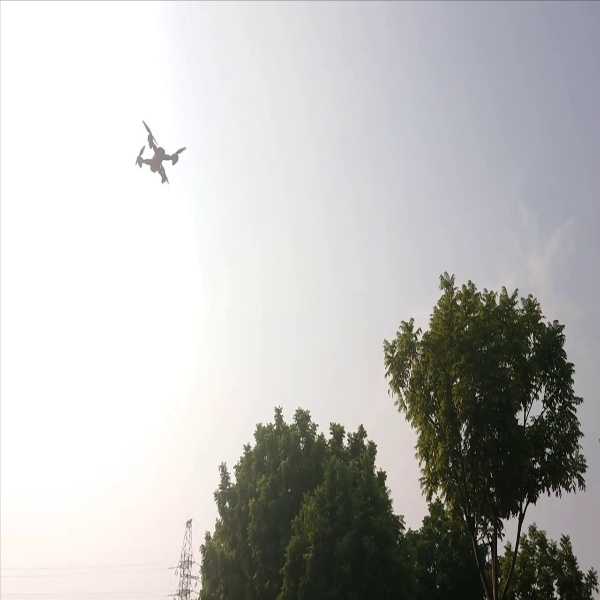drone: (119, 117, 191, 193)
